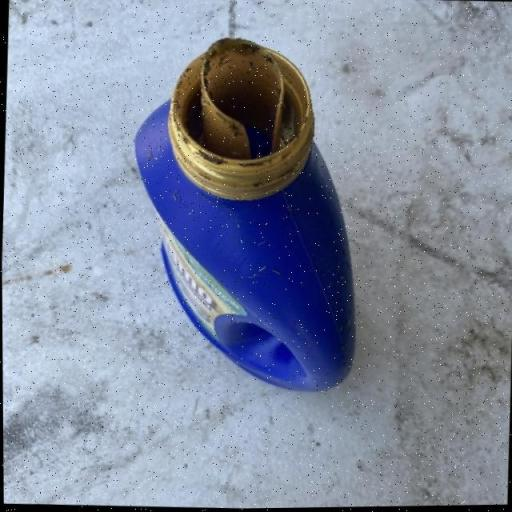plastic: (124, 30, 366, 397)
